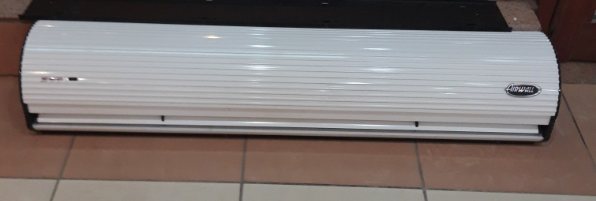Air Curtain: (14, 13, 572, 163)
